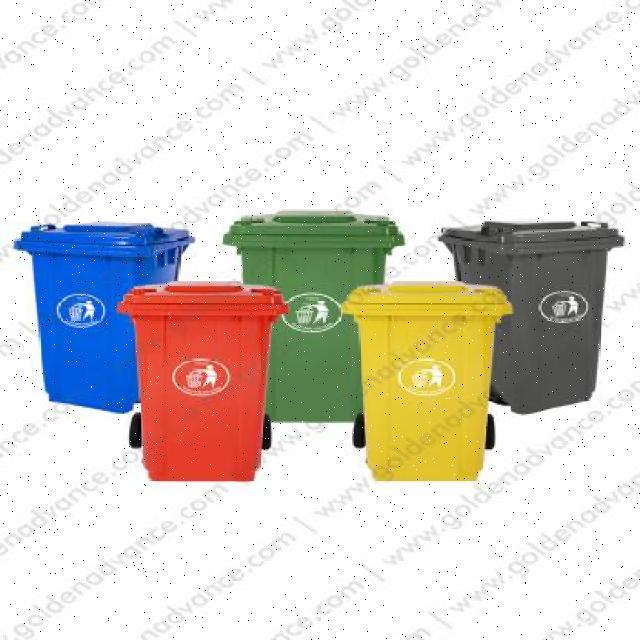garbage container: (432, 217, 637, 420), (221, 207, 410, 427), (337, 276, 519, 490), (117, 281, 296, 490), (9, 220, 197, 417)
